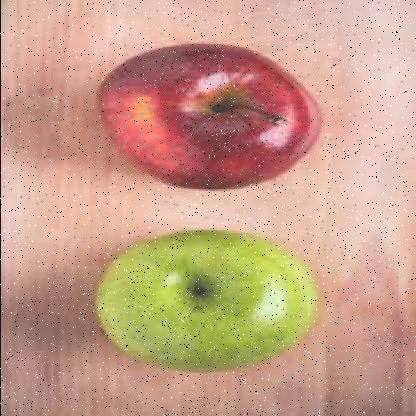apple: (100, 46, 318, 190), (100, 233, 316, 375)
